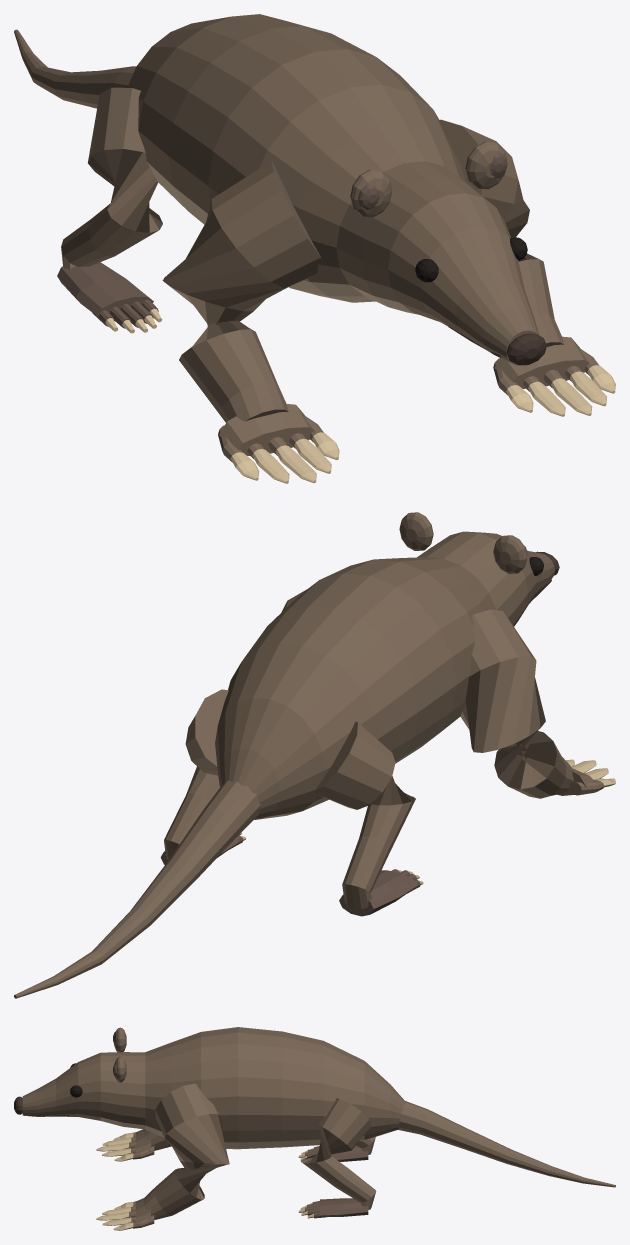
3 renders of one model, top to bottom at view 1: azimuth 30°, elevation 25°; view 2: azimuth 150°, elevation 25°; view 3: azimuth 270°, elevation 25°, orthographic. The views are drawn at different scales.
Parts seen in each view (by area): view 1: body-neck-wedge-head, left-powerful-forelimb, left-hindlimb, right-powerful-forelimb, left-elongated-hindfoot, left-short-hand-and-five-digits, long-tapered-tail, left-five-spatulate-manual-claws, right-five-spatulate-manual-claws, right-short-hand-and-five-digits, right-small-ear, left-small-ear (+1 smaller); view 2: body-neck-wedge-head, left-powerful-forelimb, left-hindlimb, long-tapered-tail, right-hindlimb, left-elongated-hindfoot, left-small-ear, right-small-ear; view 3: body-neck-wedge-head, right-powerful-forelimb, right-hindlimb, long-tapered-tail, right-elongated-hindfoot, right-five-spatulate-manual-claws, left-five-spatulate-manual-claws, left-short-hand-and-five-digits, right-short-hand-and-five-digits, left-elongated-hindfoot, left-powerful-forelimb.
Part boxes in pixels (box(x1,y1,x2,y2)): body-neck-wedge-head: box(127, 14, 539, 365); left-powerful-forelimb: box(162, 161, 321, 422); left-hindlimb: box(61, 87, 162, 269); right-powerful-forelimb: box(439, 119, 564, 346); left-elongated-hindfoot: box(57, 262, 158, 328); left-short-hand-and-five-digits: box(218, 404, 323, 462); long-tapered-tail: box(14, 29, 136, 108); left-five-spatulate-manual-claws: box(230, 432, 339, 483); right-five-spatulate-manual-claws: box(506, 365, 615, 416); right-short-hand-and-five-digits: box(493, 336, 599, 395); right-small-ear: box(465, 141, 507, 189); left-small-ear: box(350, 169, 392, 217); body-neck-wedge-head: box(215, 531, 554, 820); left-powerful-forelimb: box(460, 609, 573, 798); left-hindlimb: box(314, 721, 415, 909); long-tapered-tail: box(14, 780, 260, 998); right-hindlimb: box(164, 689, 228, 860); left-elongated-hindfoot: box(339, 869, 420, 916); left-small-ear: box(493, 535, 527, 573); right-small-ear: box(399, 512, 433, 550); body-neck-wedge-head: box(22, 1027, 405, 1149); right-powerful-forelimb: box(143, 1083, 229, 1219); right-hindlimb: box(301, 1098, 376, 1209); long-tapered-tail: box(398, 1101, 615, 1187); right-elongated-hindfoot: box(305, 1198, 368, 1218); right-five-spatulate-manual-claws: box(96, 1202, 133, 1230); left-five-spatulate-manual-claws: box(96, 1132, 133, 1161); left-short-hand-and-five-digits: box(129, 1129, 154, 1159); right-short-hand-and-five-digits: box(128, 1198, 154, 1228); left-elongated-hindfoot: box(305, 1145, 368, 1161); left-powerful-forelimb: box(143, 1129, 171, 1150).
Bounding box in the file's own units: 0.0601 × 0.0455 × 0.1619.
